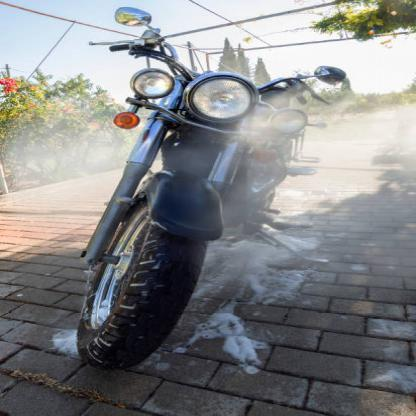Motorcycle: (75, 0, 335, 375)
